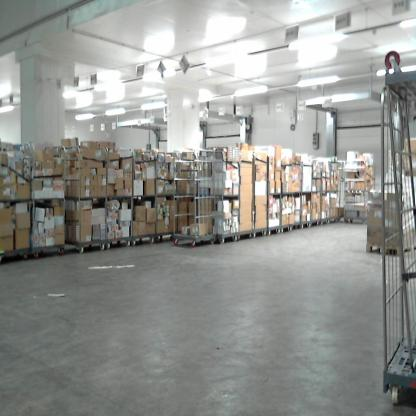pallet: (363, 236, 415, 259)
